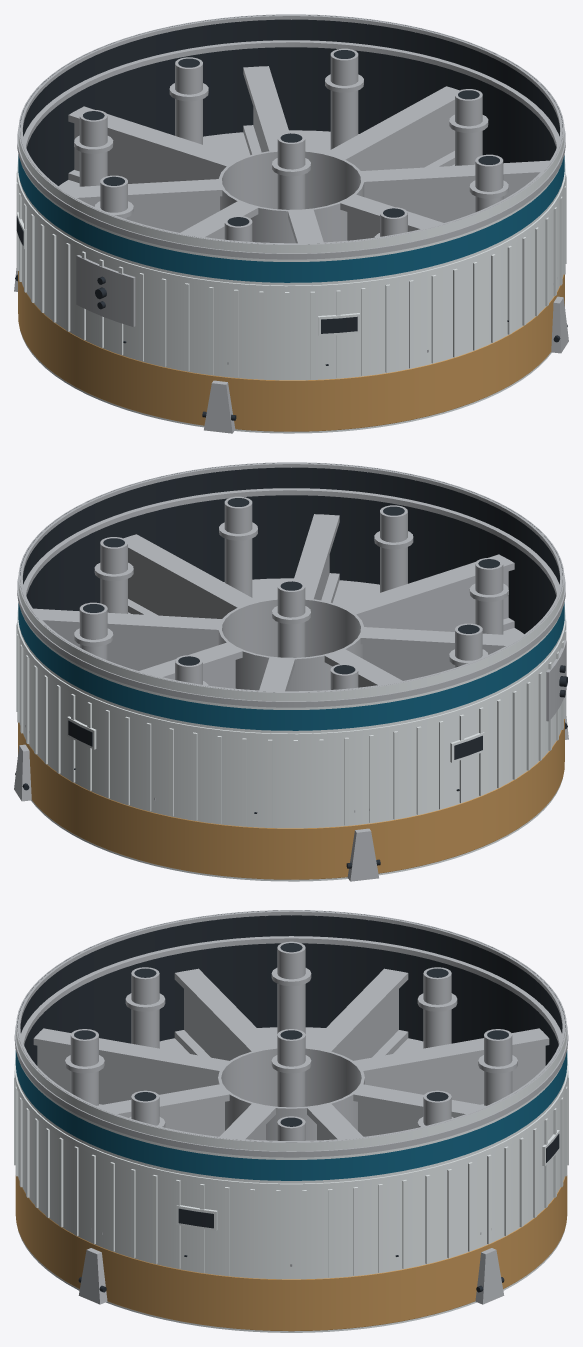
File: mount_s1_9_d84.fbx
3 views of the same model, one above another, from view 1: azimuth 30°, elevation 25°; view 2: azimuth 150°, elevation 25°; view 3: azimuth 270°, elevation 25° (orthographic).
Parts seen in each view (by area): view 1: mount_s1_9_d84_LOD0; view 2: mount_s1_9_d84_LOD0; view 3: mount_s1_9_d84_LOD0.
Boxes of the visible parts, box(x1,y1,x2,y2) form: mount_s1_9_d84_LOD0: box(14, 14, 568, 433); mount_s1_9_d84_LOD0: box(14, 462, 568, 881); mount_s1_9_d84_LOD0: box(14, 910, 568, 1332).
Size of what is drawn, in the model's own units: 8.46 by 3.2 by 8.46.
